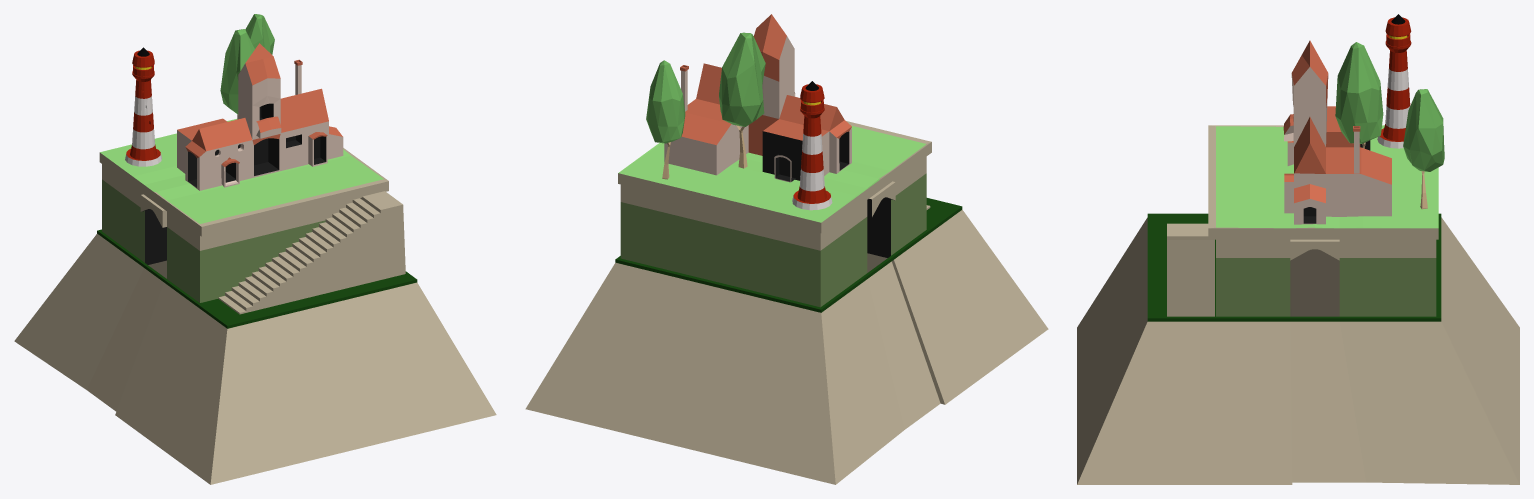
The model's file is island5.fbx.
The picture shows the model from 3 angles, left to right: view 1: azimuth 30°, elevation 25°; view 2: azimuth 150°, elevation 25°; view 3: azimuth 270°, elevation 25°; orthographic projection. The views are drawn at different scales.
Visible parts, largest first — view 1: plataforma, casa, escada, farol, arvoretype2.001, arvoretype2; view 2: plataforma, casa, arvoretype2.001, farol, arvoretype2; view 3: plataforma, casa, escada, arvoretype2.001, farol, arvoretype2.
Part boxes in pixels (x1,y1,x2,y2): plataforma: (14,119,496,484); casa: (177,43,343,190); escada: (218,191,405,314); farol: (125,47,161,166); arvoretype2.001: (220,29,254,114); arvoretype2: (245,14,274,54); plataforma: (525,121,1048,484); casa: (664,14,851,182); arvoretype2.001: (719,32,765,168); farol: (792,81,832,210); arvoretype2: (646,60,685,179); plataforma: (1077,125,1519,484); casa: (1283,40,1391,224); escada: (1167,223,1214,316); arvoretype2.001: (1335,42,1383,148); farol: (1377,14,1411,148); arvoretype2: (1403,89,1444,209).
Size of the model in its own units: 11327 by 12444 by 13457.
